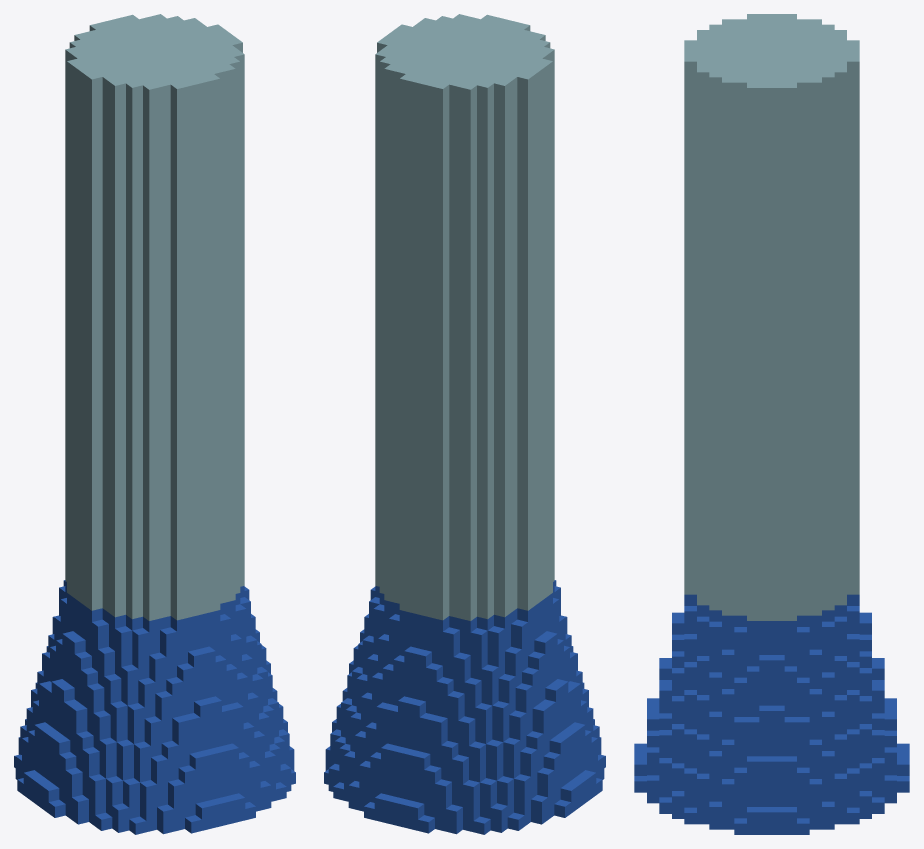
File: tower4.obj
3 views of the same model, side by side, from view 1: azimuth 30°, elevation 25°; view 2: azimuth 150°, elevation 25°; view 3: azimuth 270°, elevation 25° (orthographic).
Size of the model in its own units: 2.2 by 6.4 by 2.2.
Materials: 1 (1 with a texture image).
